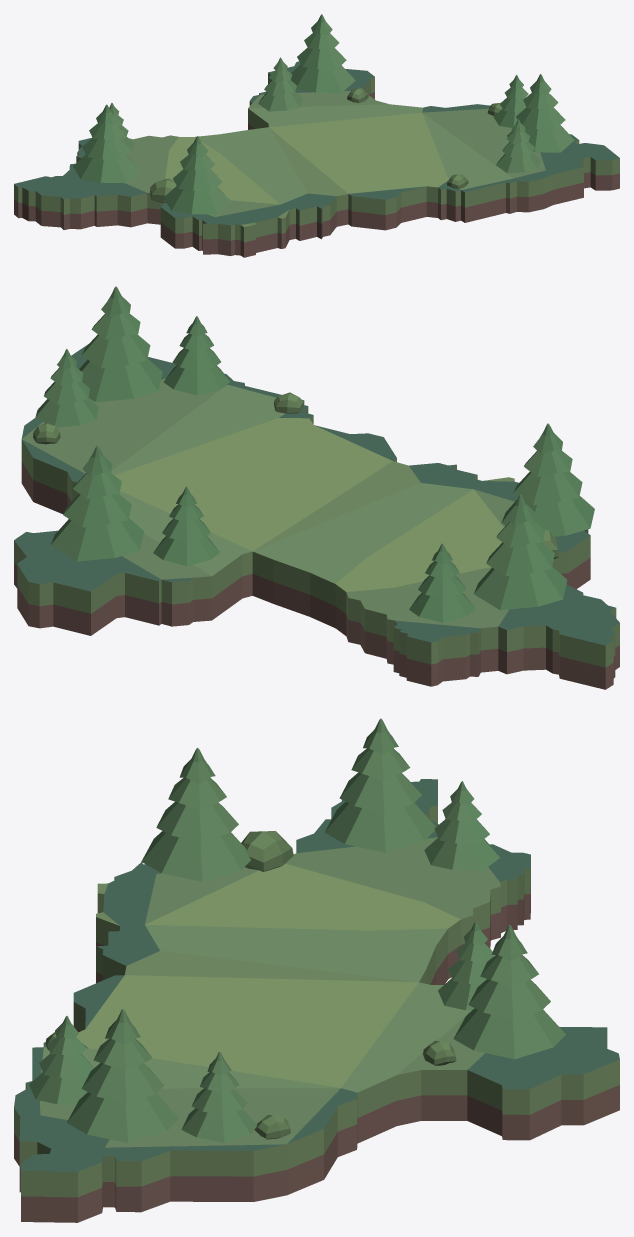
File: honuu.gltf
The picture shows the model from 3 angles, top to bottom: view 1: azimuth 30°, elevation 25°; view 2: azimuth 150°, elevation 25°; view 3: azimuth 270°, elevation 25°; orthographic projection. The views are drawn at different scales.
Parts seen in each view (by area): view 1: хонуу; view 2: хонуу; view 3: хонуу.
Part boxes in pixels (x1,y1,x2,y2): хонуу: (14, 14, 619, 257); хонуу: (14, 286, 619, 689); хонуу: (14, 718, 619, 1222).
Size of the model in its own units: 2.58 by 0.5325 by 1.68.
